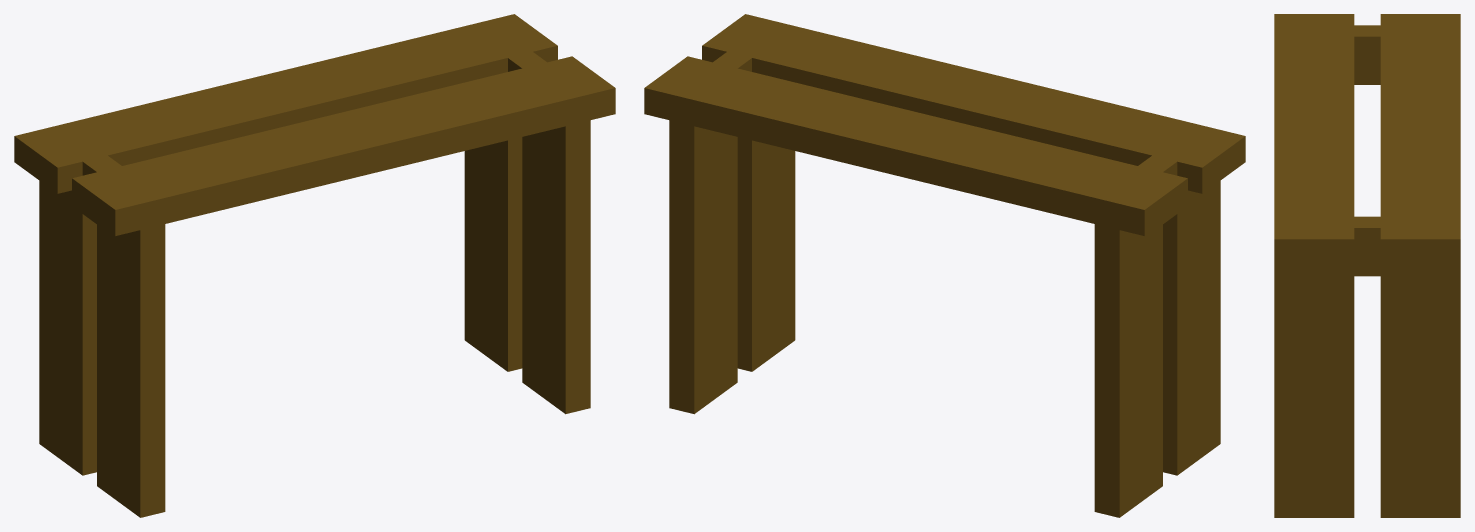
The model's file is bench.obj.
The picture shows the model from 3 angles, left to right: view 1: azimuth 30°, elevation 25°; view 2: azimuth 150°, elevation 25°; view 3: azimuth 270°, elevation 25°; orthographic projection. The views are drawn at different scales.
Bounding box in the file's own units: 2 × 1.2 × 0.7.
Materials: 1 (1 with a texture image).
